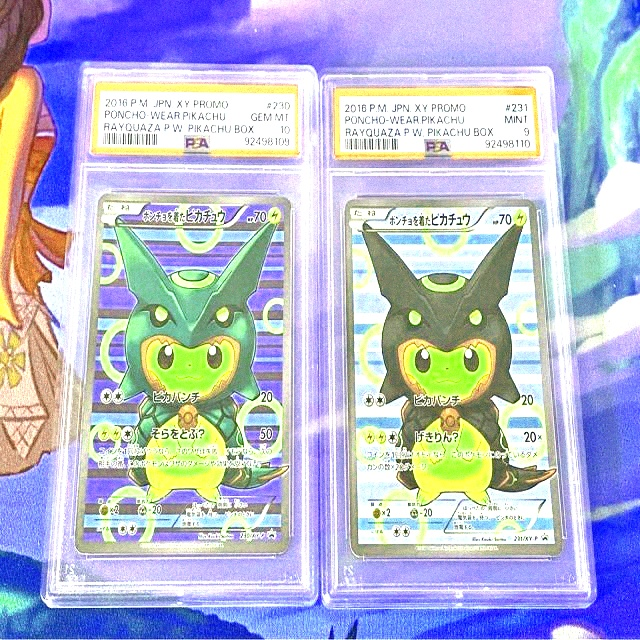card: (74, 192, 292, 554), (344, 198, 563, 558)
